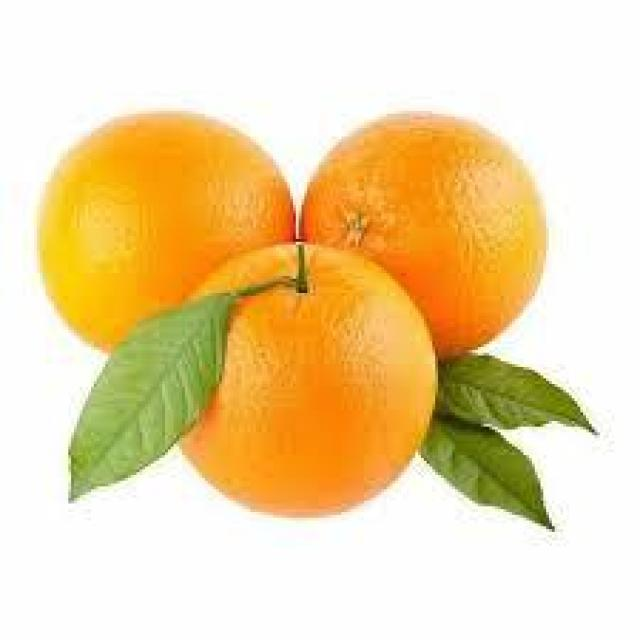Good_Orange: (71, 242, 441, 521), (34, 111, 299, 356), (299, 114, 543, 361)
